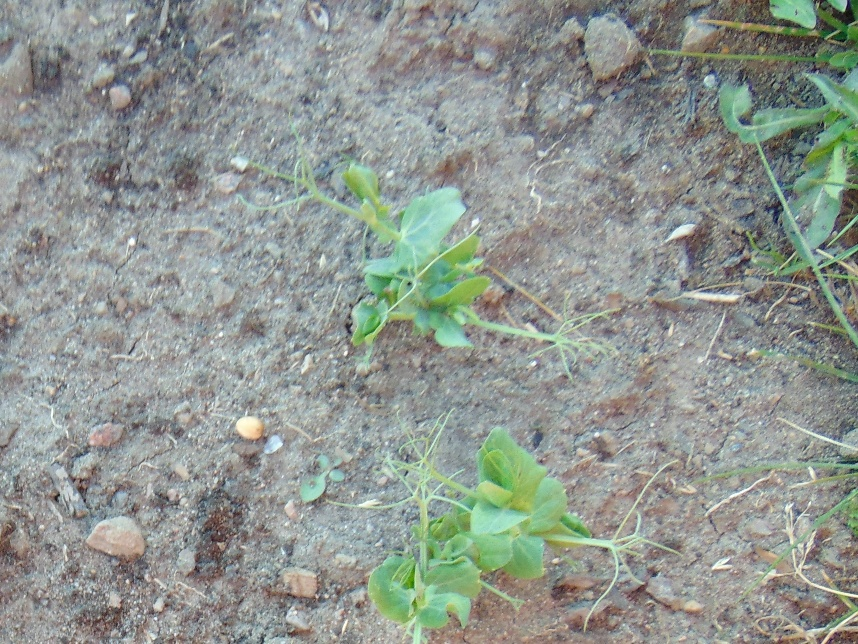crop: (356, 418, 649, 631), (294, 168, 587, 368)
weed: (707, 57, 858, 275), (739, 1, 858, 70), (300, 452, 347, 501)
